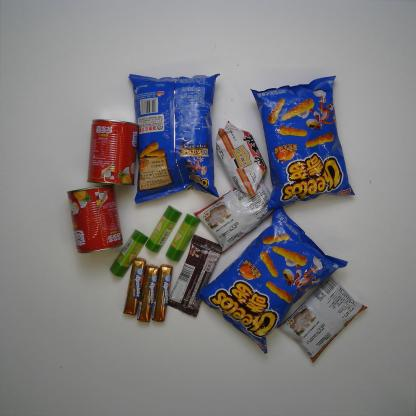Candy: (122, 257, 147, 316), (136, 264, 160, 323), (151, 264, 173, 323)
Canned Food: (66, 184, 123, 254), (86, 118, 139, 186)
Chocolate: (167, 234, 222, 318)
Puffed Food: (195, 206, 348, 354), (250, 75, 356, 212), (128, 73, 222, 205)
Seasoner: (276, 274, 368, 363), (193, 178, 276, 254), (216, 120, 268, 198)
Stationery: (109, 229, 149, 278), (145, 205, 182, 253), (165, 213, 201, 262)
